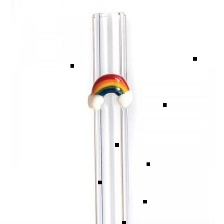drinking_straw: (81, 7, 137, 222)
